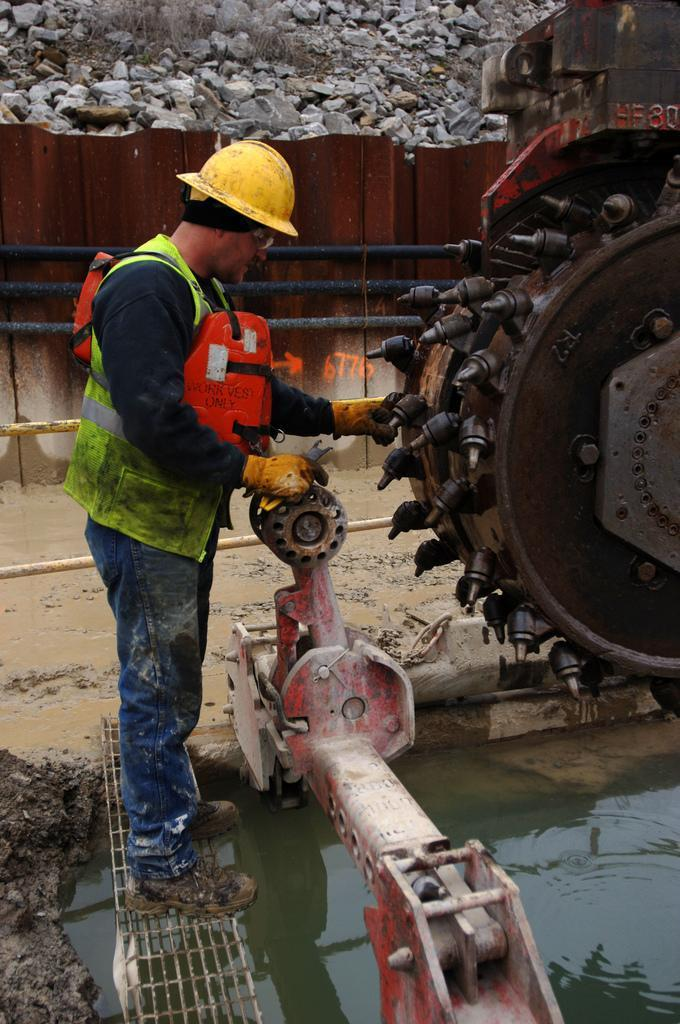vest: (82, 222, 250, 599)
